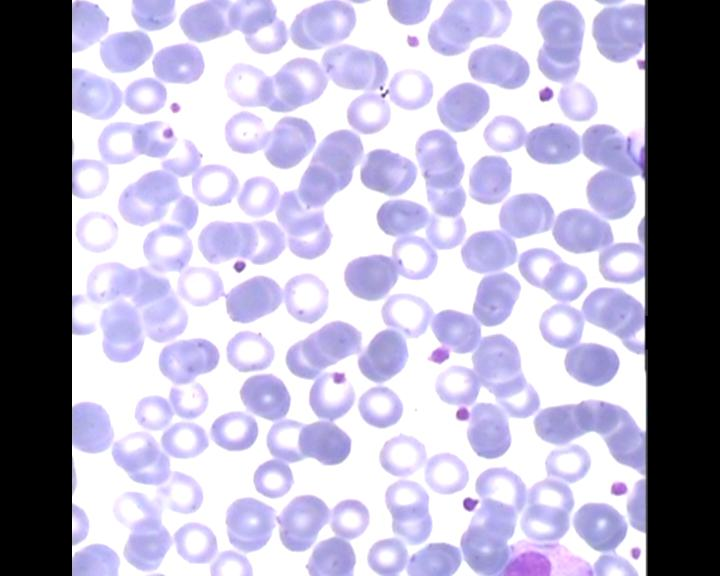mono: (495, 538, 602, 576)
